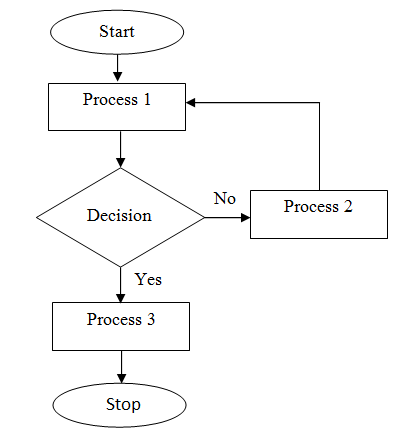arrow: (184, 96, 321, 191), (200, 212, 252, 223), (113, 263, 127, 303), (115, 348, 129, 386), (115, 129, 127, 171), (111, 53, 123, 83)
decision: (31, 166, 207, 268)
process: (247, 187, 389, 242), (45, 81, 188, 134), (50, 300, 192, 353)
terminator: (48, 8, 186, 56), (50, 381, 188, 429)
text: (82, 89, 152, 109), (282, 198, 354, 214), (84, 311, 155, 327), (85, 208, 154, 224), (97, 22, 137, 41), (103, 396, 142, 415), (132, 271, 161, 286), (209, 190, 237, 205)
